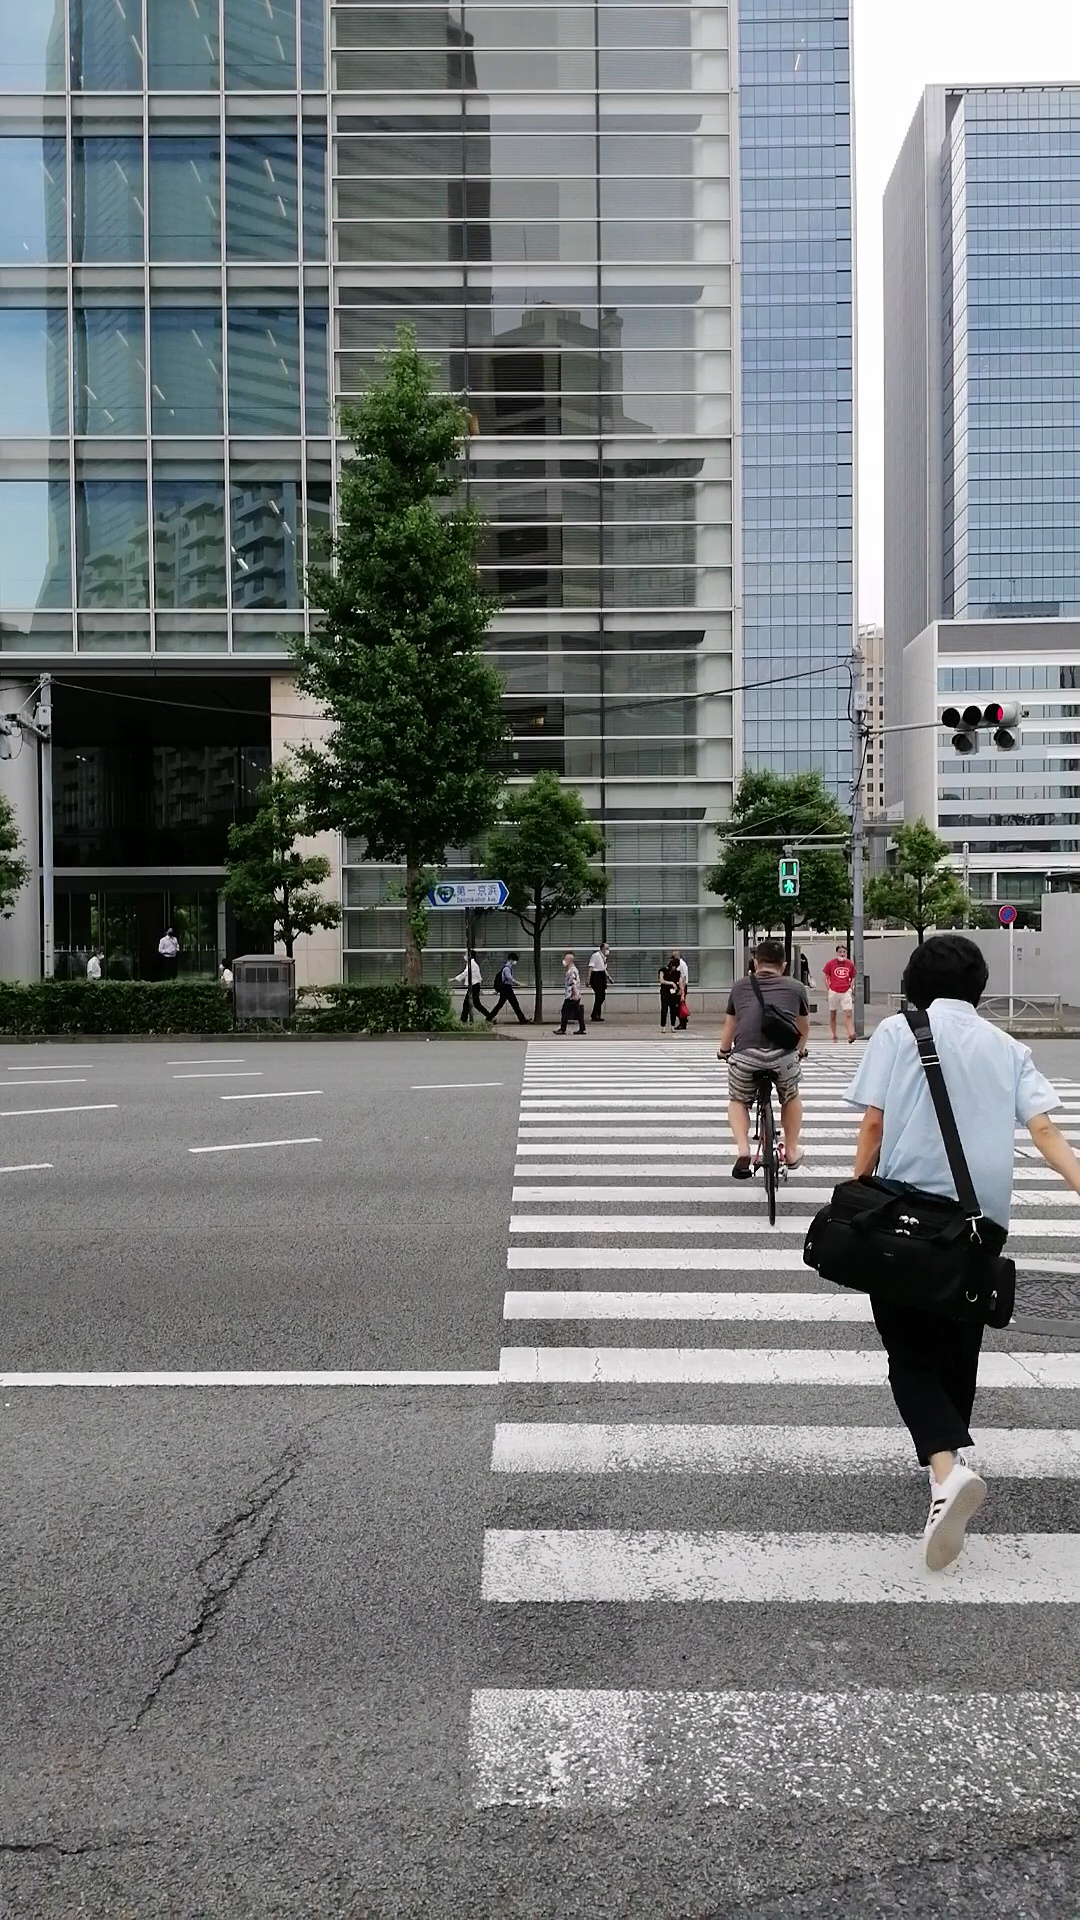green: (775, 855, 800, 898)
